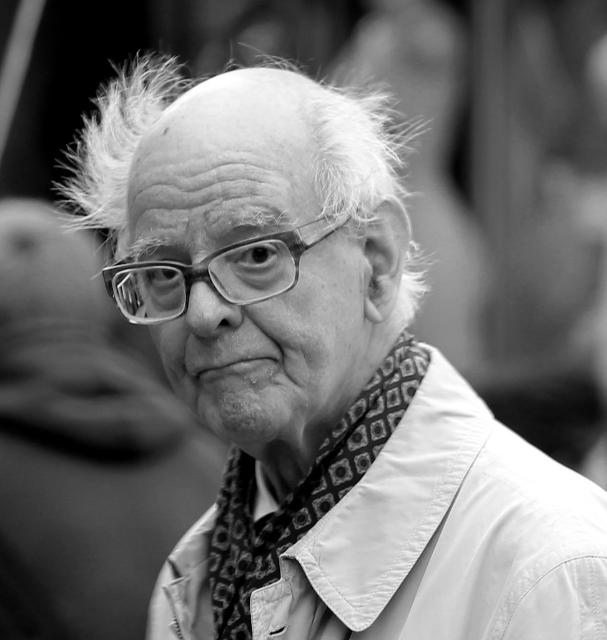forehead: (186, 166, 231, 207), (234, 162, 268, 204), (134, 177, 180, 195)
gummy_smile: (244, 307, 280, 349), (177, 328, 198, 372)
sad_smile: (274, 359, 308, 397), (186, 377, 210, 407)
